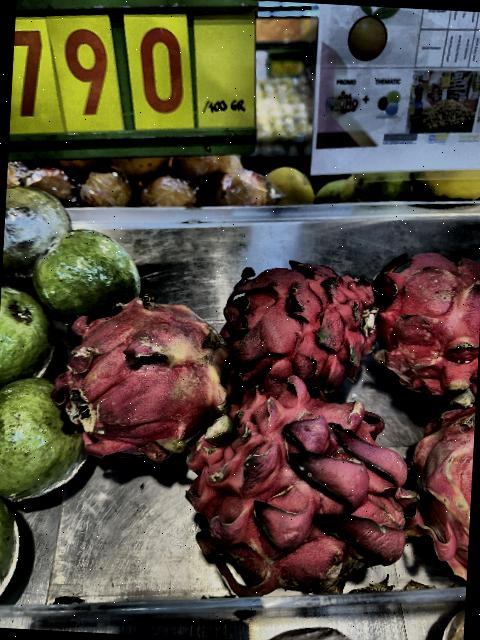buah-naga-belum-matang: (49, 288, 242, 464), (403, 392, 476, 592)
buah-naga-matang: (181, 372, 420, 602), (209, 262, 378, 398), (362, 245, 480, 399)
